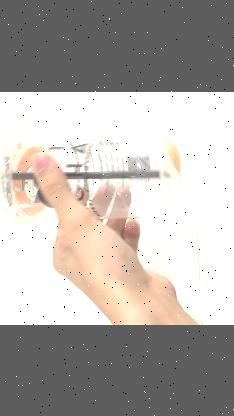Others: (0, 120, 184, 224)
